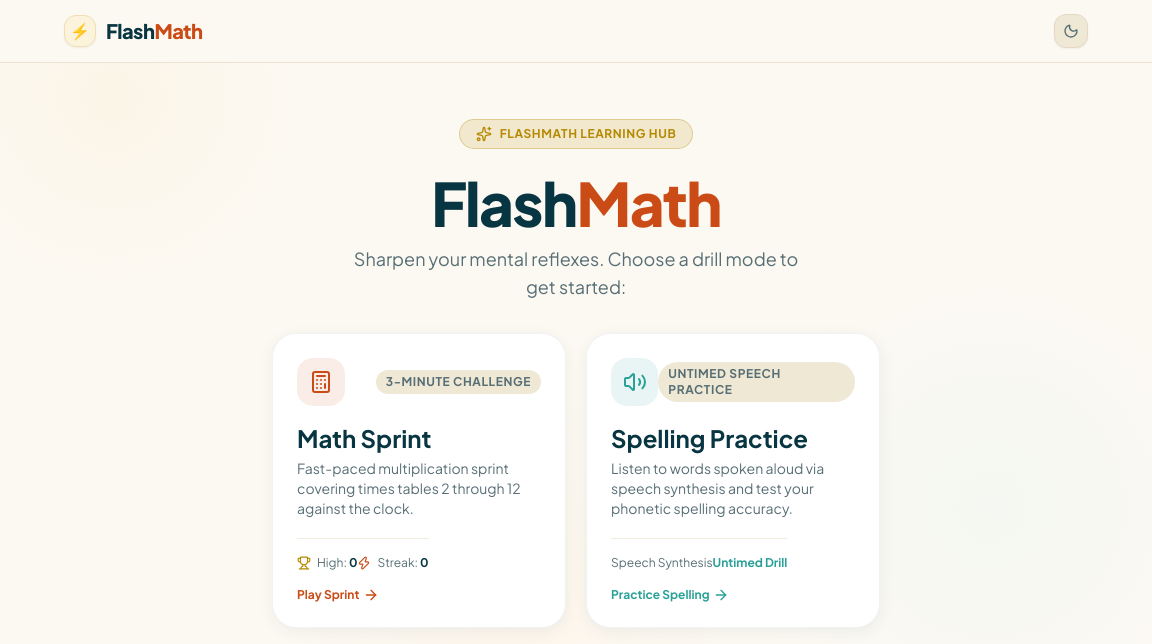
Test case: FlashMath App Integration › navigates to Spelling Word Set History from level select and supports level tab switching
This screenshot has width=1152, height=644.
Note: Click Spelling Practice on landing page
Click the button with aria-label "start spelling practice" at (733,480), box left=586, top=333, right=880, bottom=628
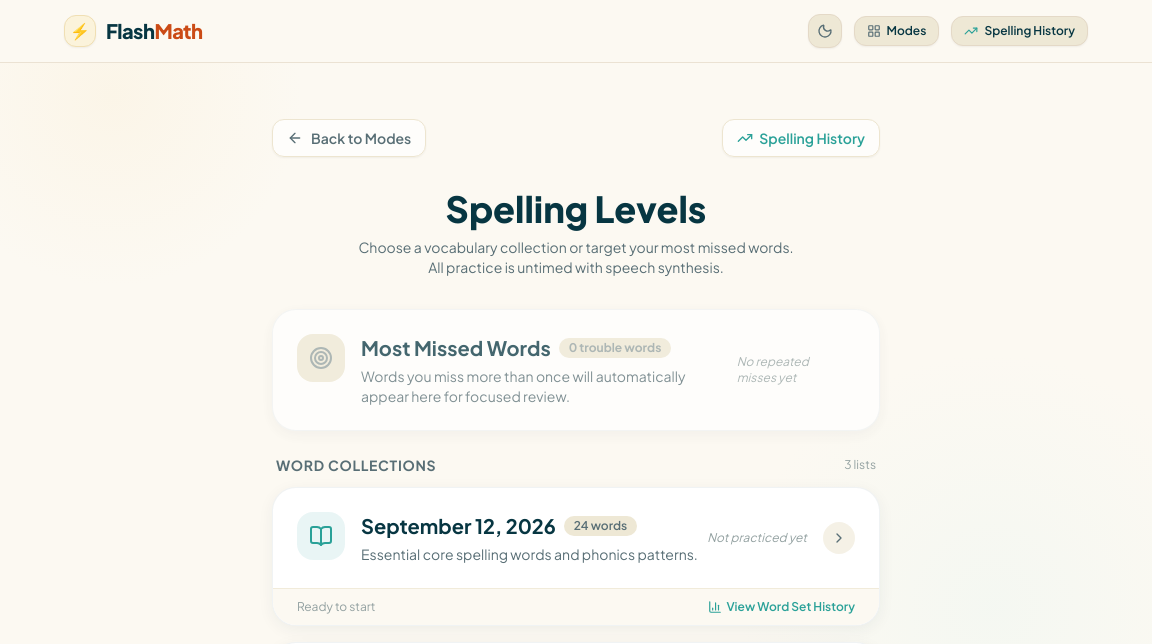
Note: Click Spelling History in header or top bar
Click the 1st button "Spelling History" at (1020,31), box left=951, top=16, right=1088, bottom=46
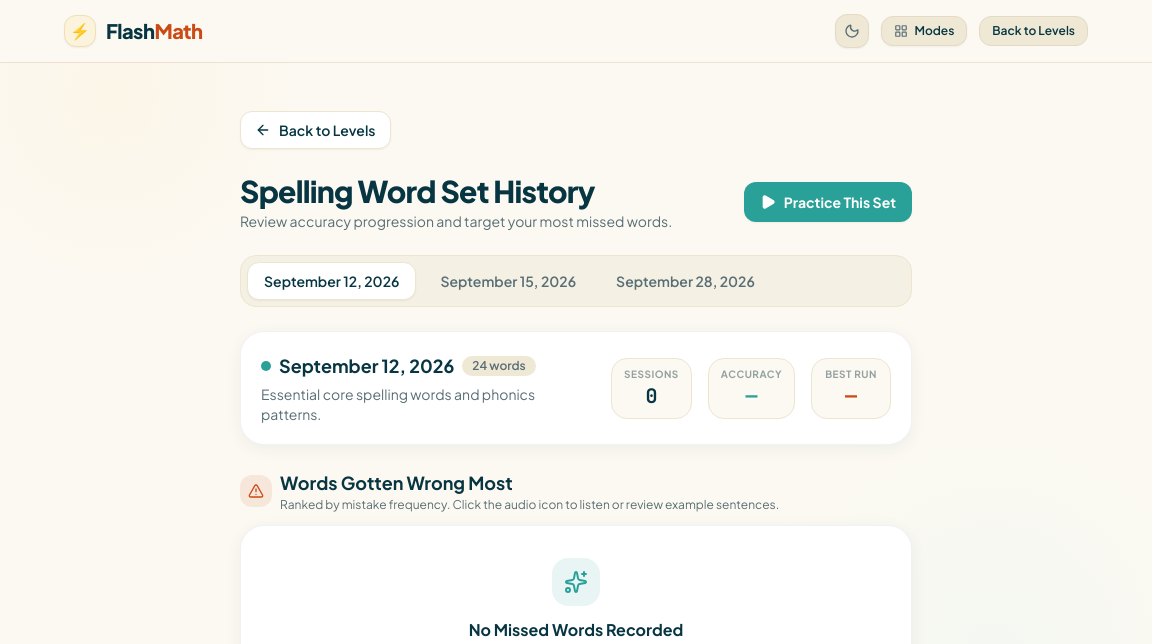
Check: the heading "Spelling Word Set History" is shown, box left=240, top=172, right=595, bottom=210
Check: the heading "Words Gotten Wrong Most" is shown, box left=280, top=471, right=513, bottom=494
Note: Switch to September 28, 2026
Click the button "September 28, 2026" at (686,281), box left=600, top=263, right=771, bottom=299
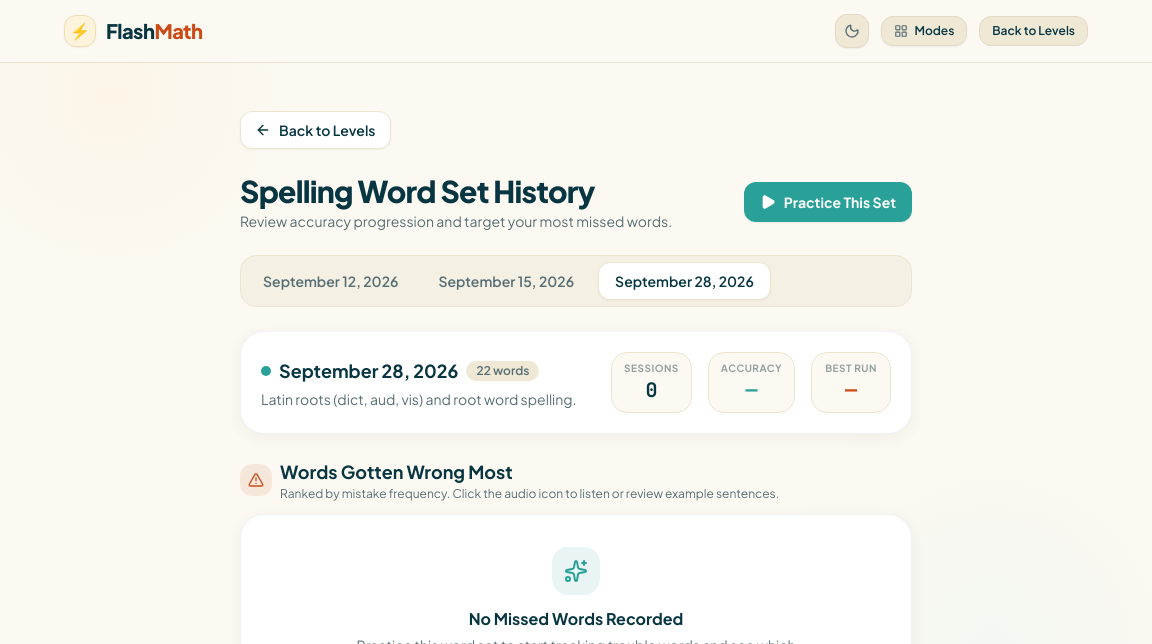
Check: the text "Latin roots (dict, aud, vis) and root word spelling." is shown, box left=261, top=388, right=577, bottom=408
Note: Back to levels
Click the 1st button "Back to Levels" at (1034,31), box left=979, top=16, right=1088, bottom=46
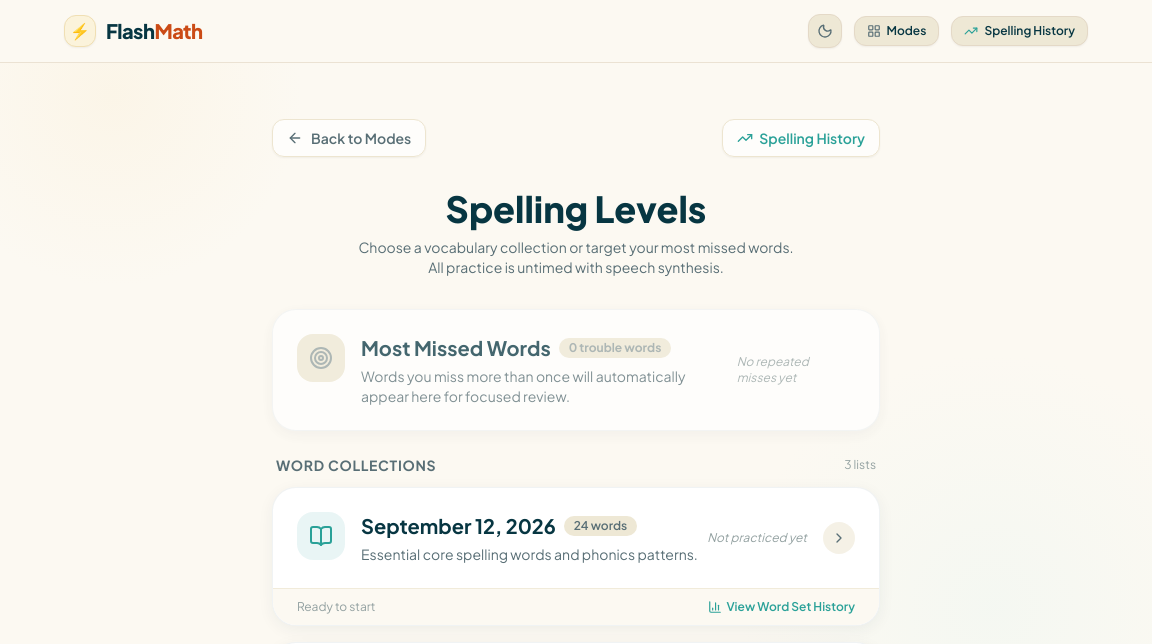
Check: the heading "Spelling Levels" is shown, box left=446, top=186, right=706, bottom=231
